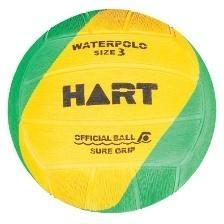Sports-Ball: (3, 7, 217, 211)
